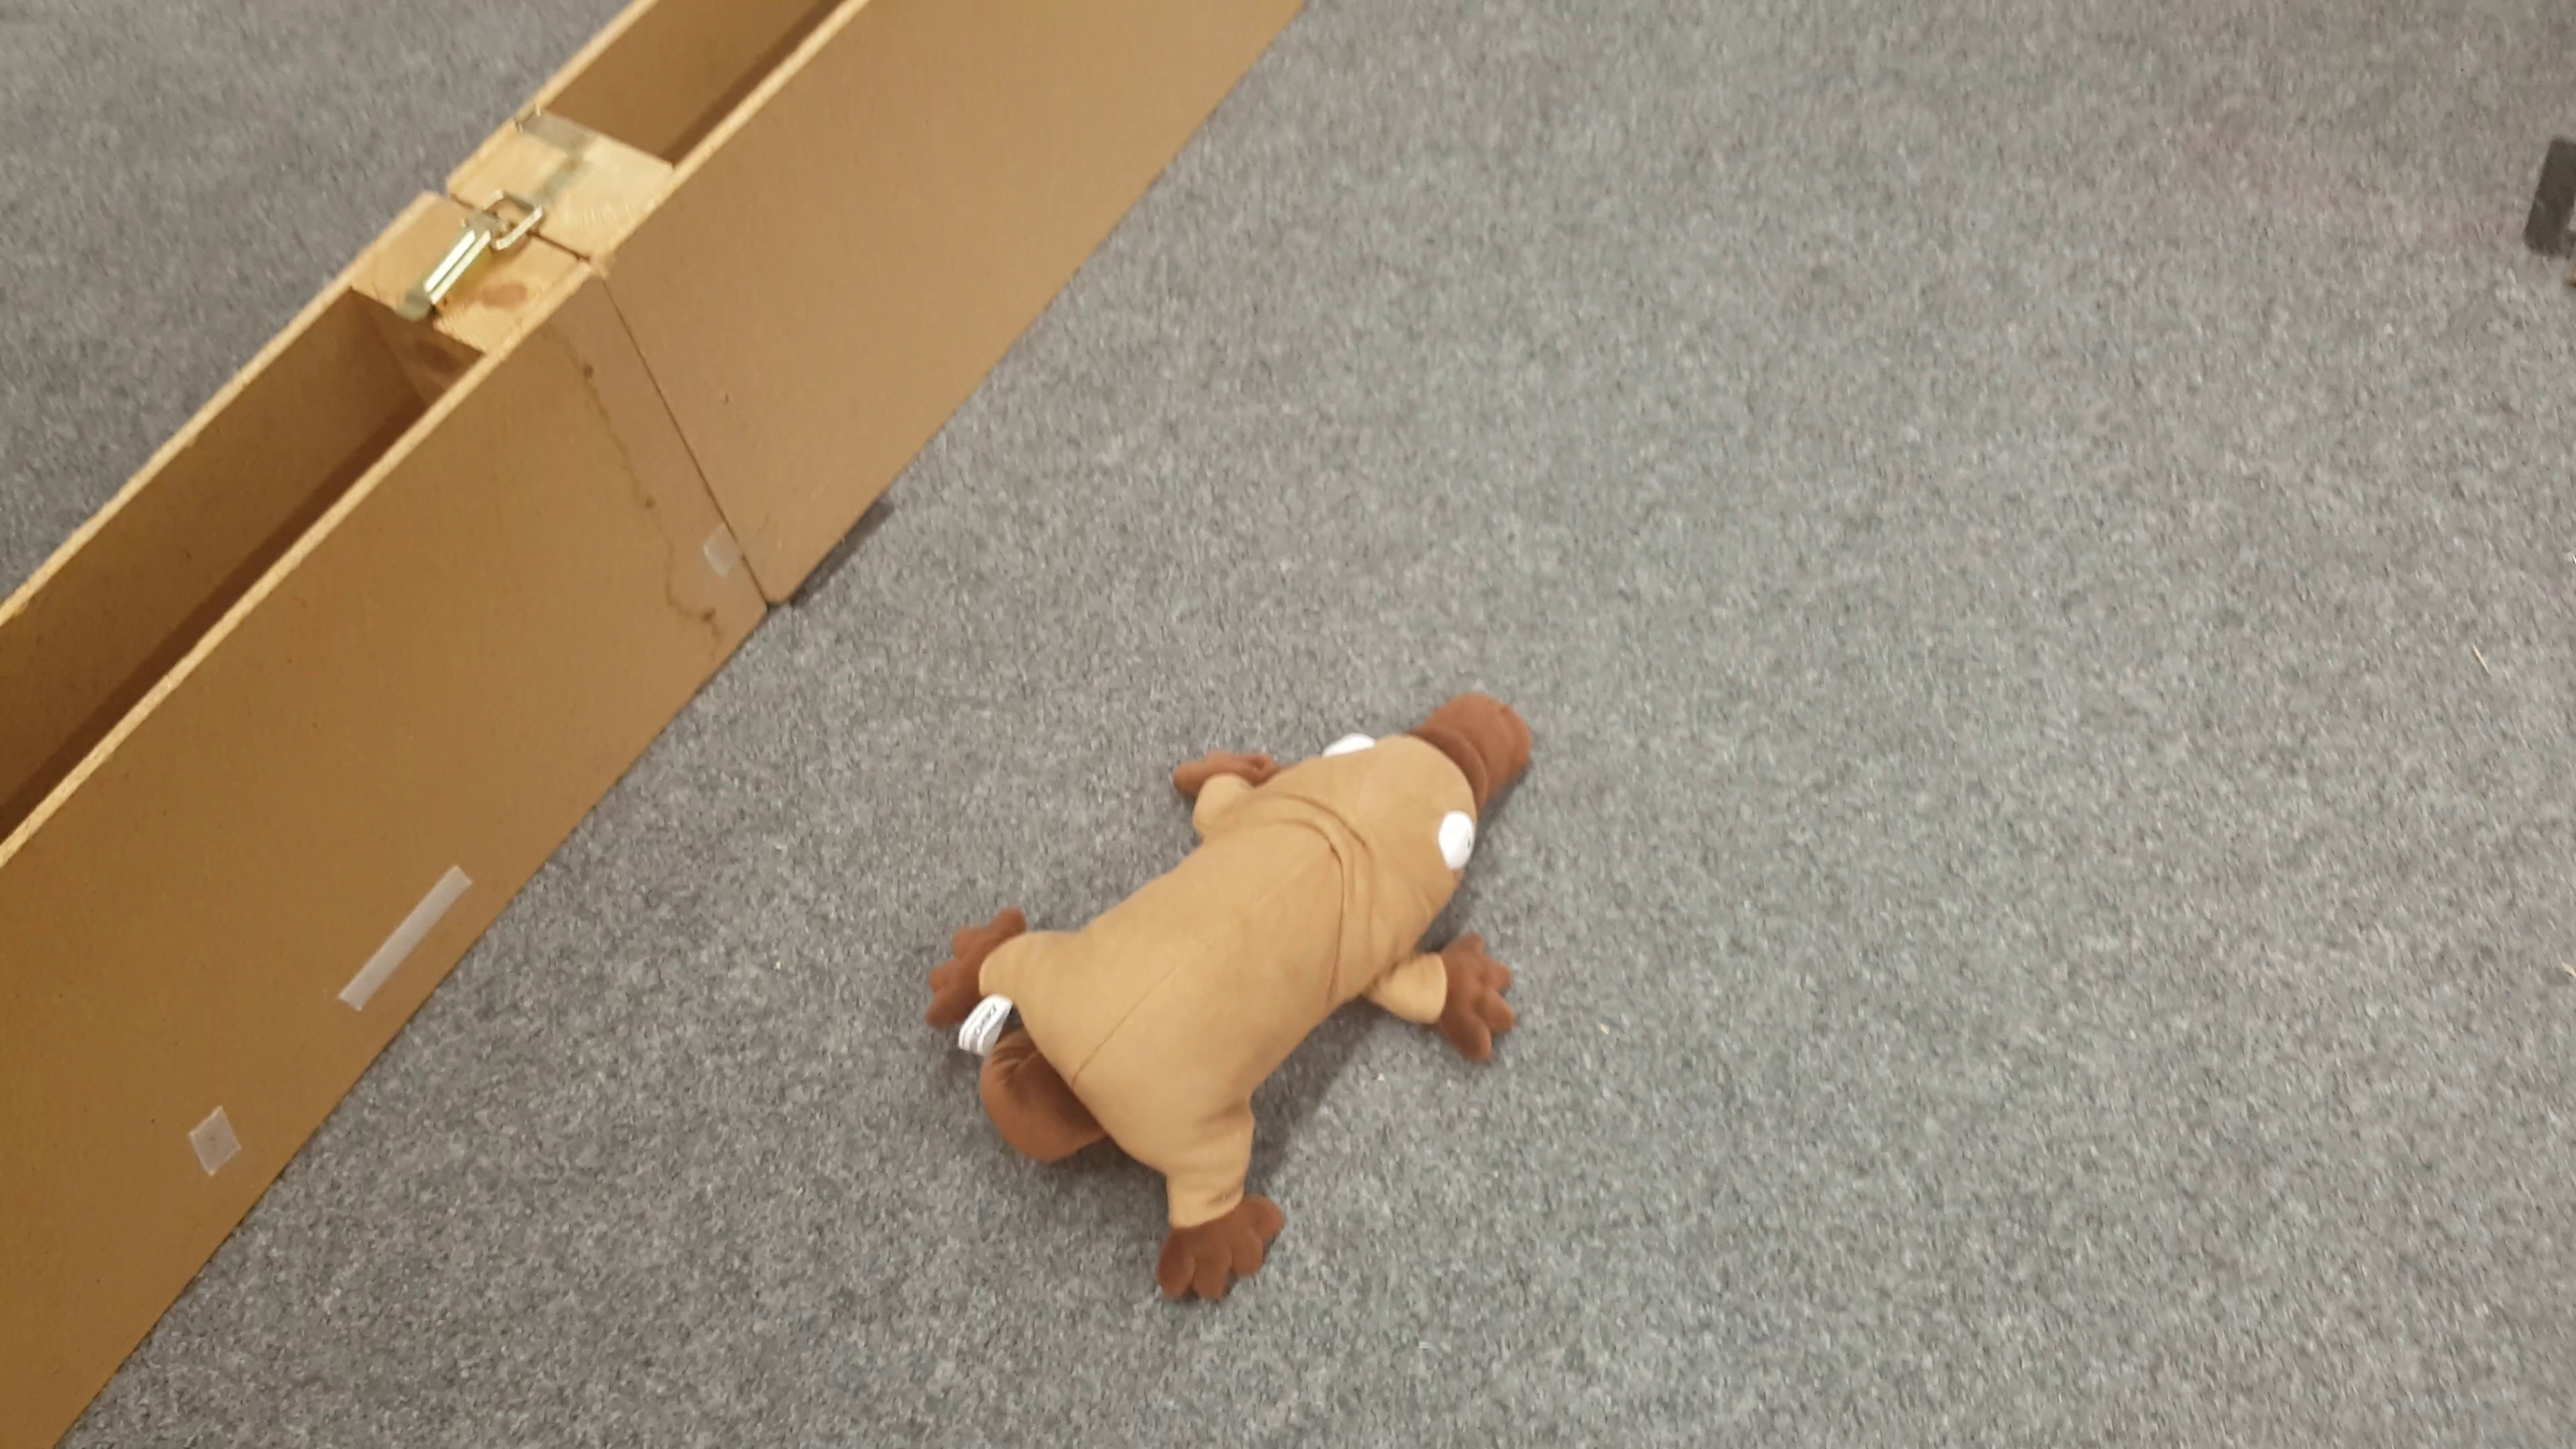grasp: (918, 692, 1543, 1304)
